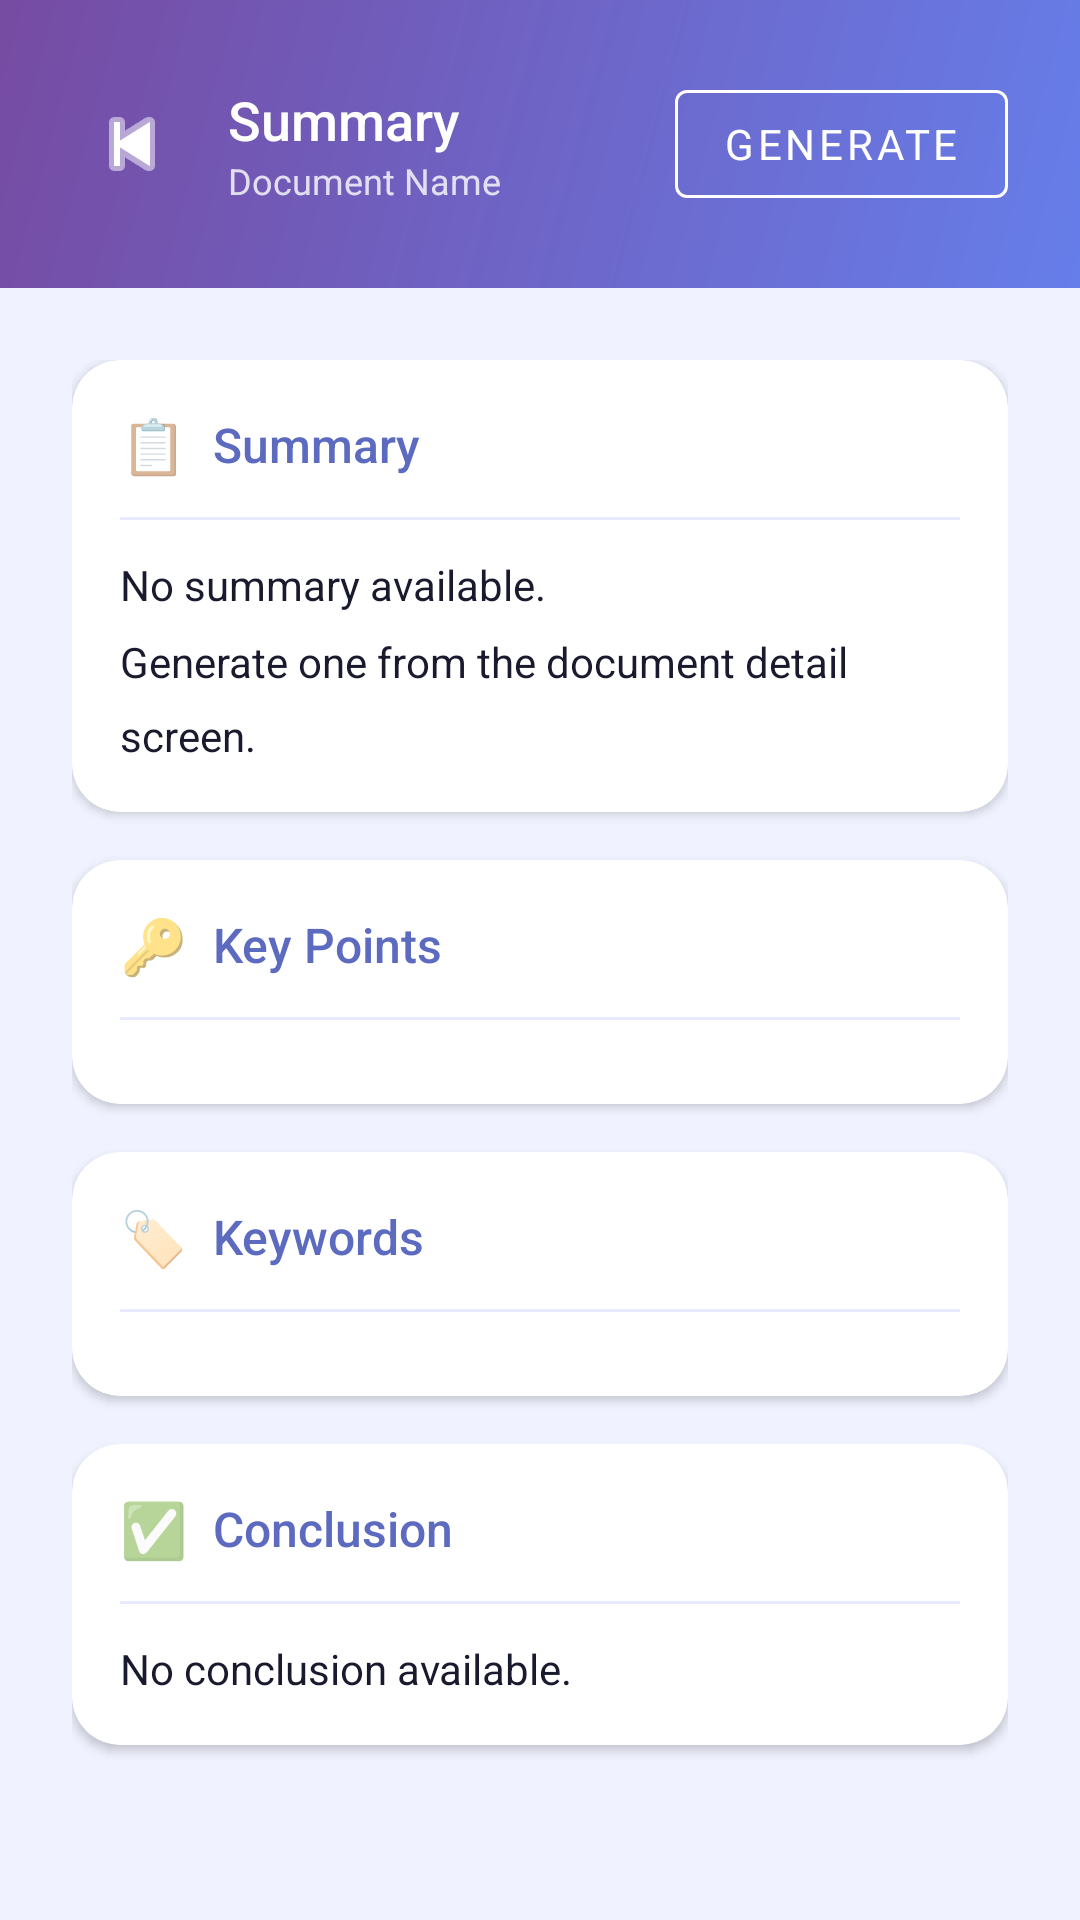

Icon bounding boxes for this 1080×1920 phone screenshot, format bbox=[x1, y1, x2, y2]:
Back: bbox=[109, 117, 155, 171]
